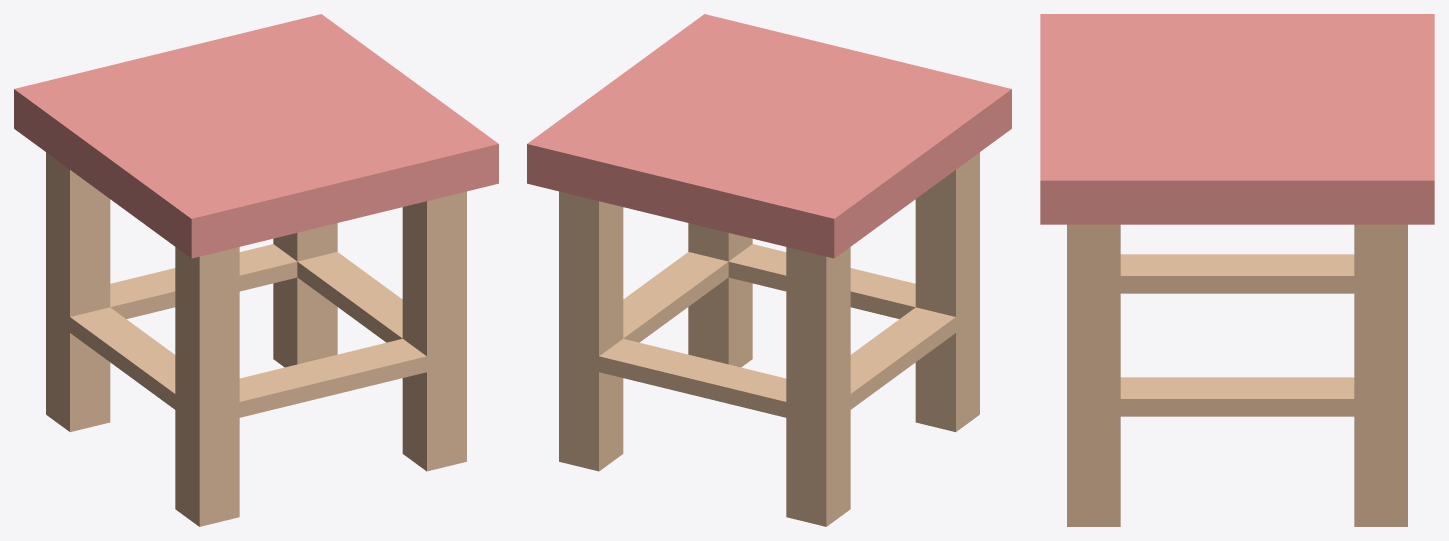
File: kn-stool-bar-square.glb
The picture shows the model from 3 angles, left to right: view 1: azimuth 30°, elevation 25°; view 2: azimuth 150°, elevation 25°; view 3: azimuth 270°, elevation 25°; orthographic projection. The views are drawn at different scales.
Parts seen in each view (by area): view 1: stoolBarSquare(Clone); view 2: stoolBarSquare(Clone); view 3: stoolBarSquare(Clone).
Boxes of the visible parts, x1=… form: stoolBarSquare(Clone): x1=14, y1=14, x2=498, y2=526; stoolBarSquare(Clone): x1=527, y1=14, x2=1011, y2=526; stoolBarSquare(Clone): x1=1040, y1=14, x2=1434, y2=526.
Size of the model in its own units: 1 by 1 by 1.
